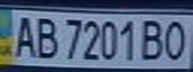0: (100, 17, 121, 61)
1: (118, 17, 142, 61)
2: (78, 16, 103, 61)
7: (60, 16, 84, 61)
A: (9, 12, 39, 59)
B: (136, 17, 169, 61), (30, 13, 60, 60)
O: (160, 17, 190, 62)
